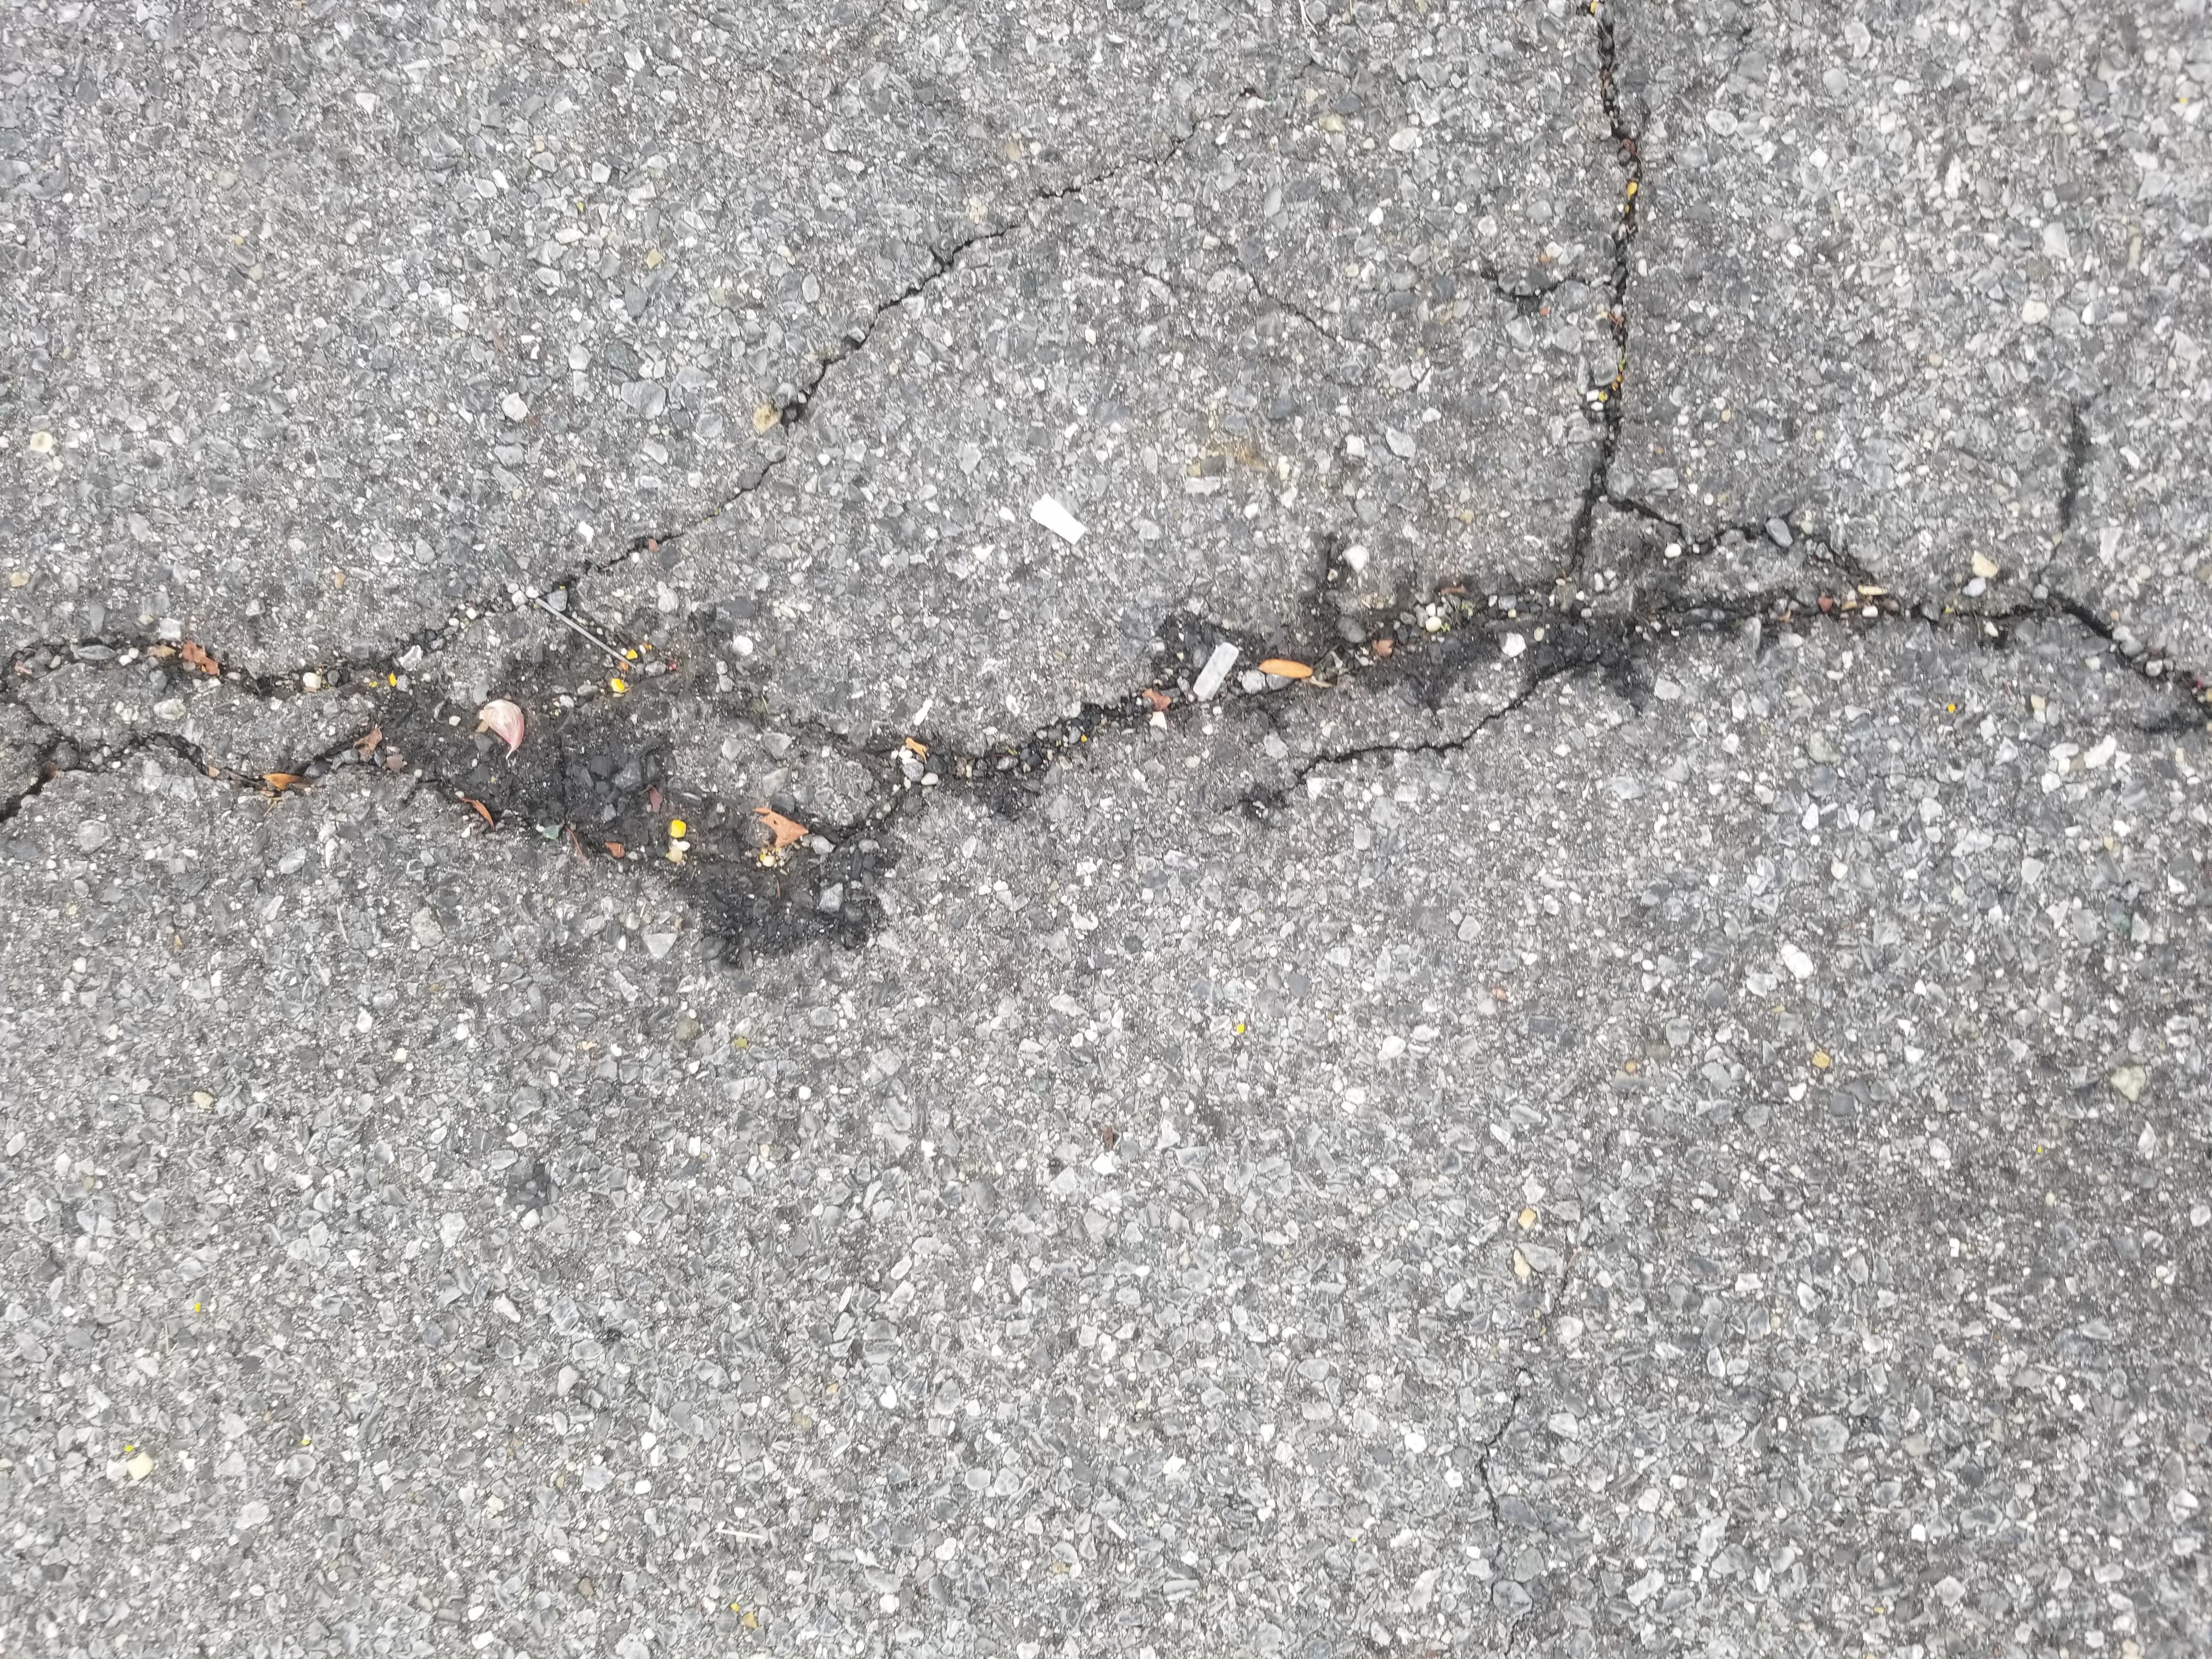crack: (852, 78, 1618, 1551)
